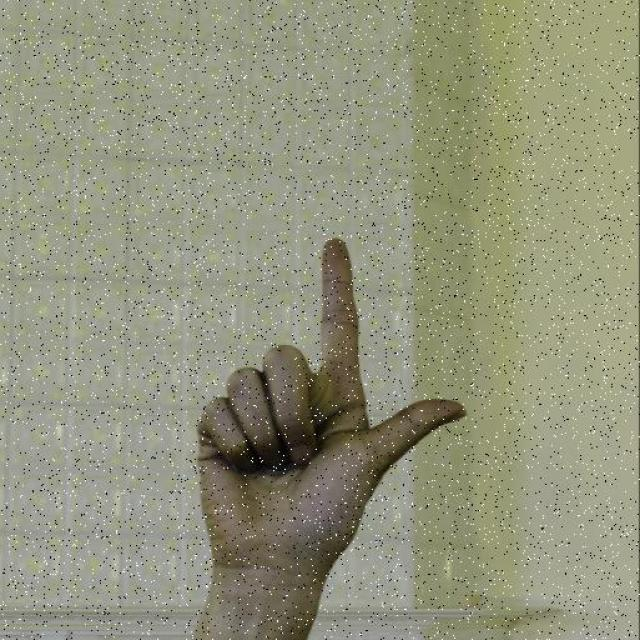L: (195, 236, 475, 580)
